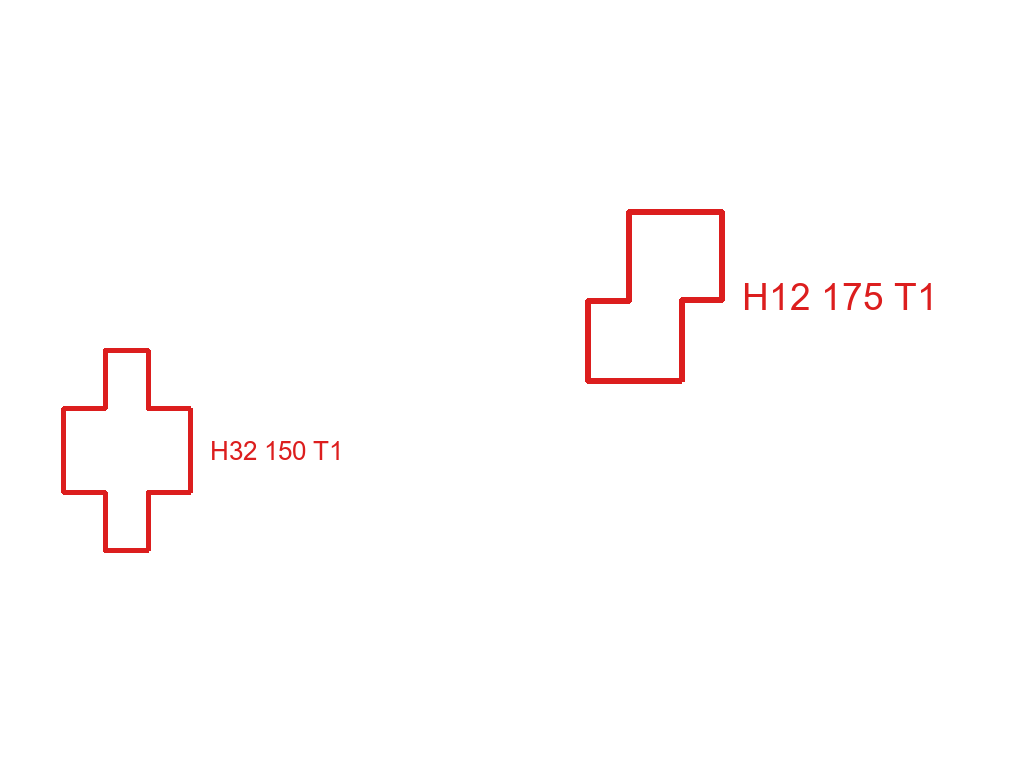shape: (59, 346, 195, 555), (583, 206, 727, 386)
text: (740, 281, 940, 312), (208, 439, 345, 462)
